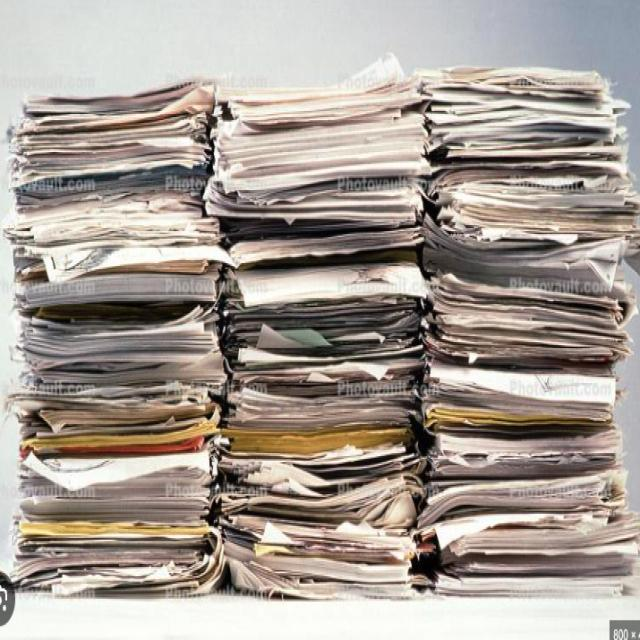KertasBekas: (4, 58, 637, 600)
